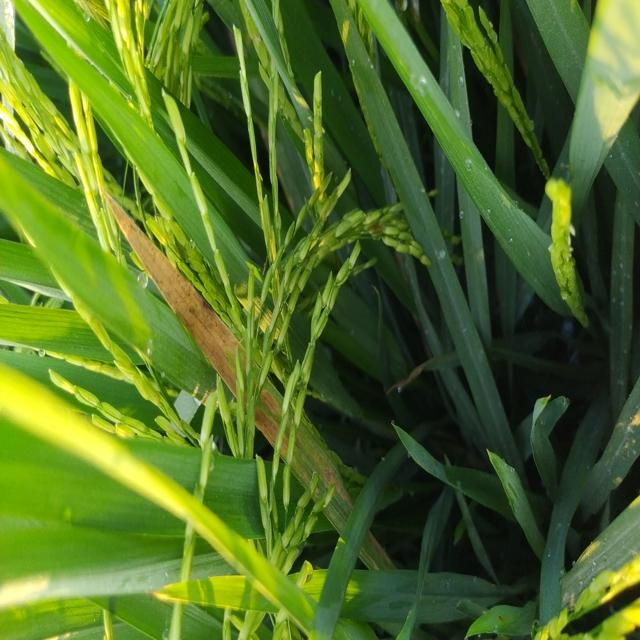Brown spot: (98, 175, 356, 508)
